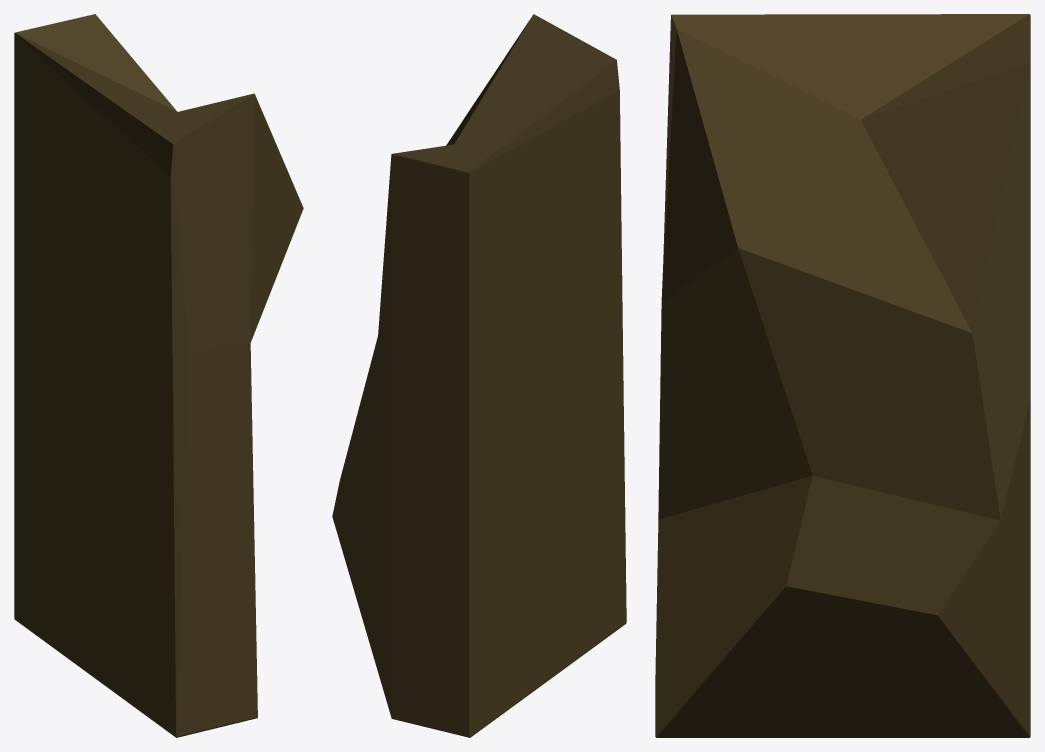
Rendered from brickwall.fbx.
3 renders of one model, left to right at view 1: azimuth 30°, elevation 25°; view 2: azimuth 150°, elevation 25°; view 3: azimuth 270°, elevation 25°, orthographic. The views are drawn at different scales.
Visible parts, largest first — view 1: Cube.003; view 2: Cube.003; view 3: Cube.003.
Boxes of the visible parts, box(x1,y1,x2,y2) form: Cube.003: box(14, 14, 303, 737); Cube.003: box(332, 14, 626, 737); Cube.003: box(655, 14, 1030, 737).
Size of the model in its own units: 1411 by 2954 by 916.
